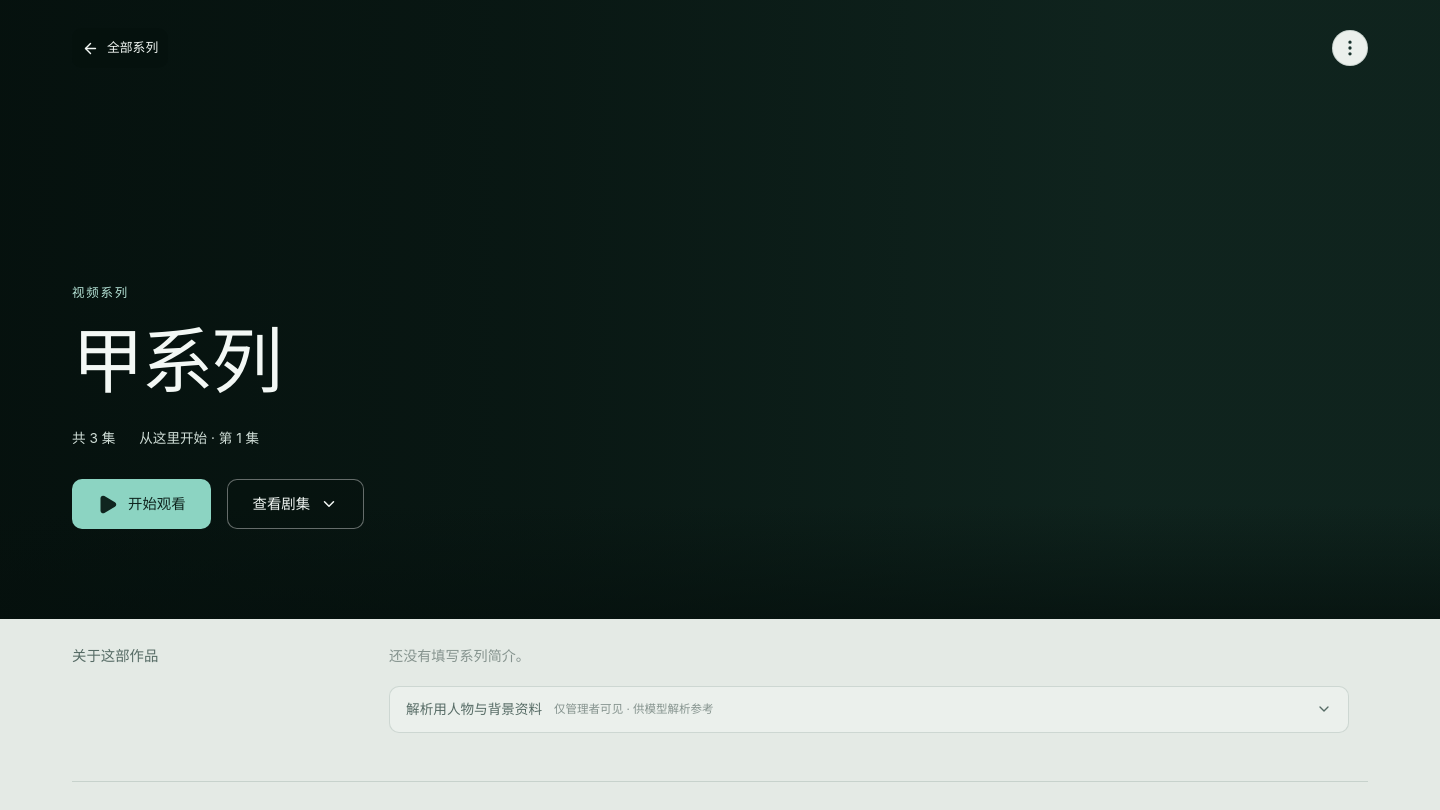
Scenario: SeriesPage › keeps the model-facing background behind a collapsed manager section
Expected: the text "还没有填写系列简介。" is shown, [389, 647, 530, 664]
Expected: the heading "高松灯" is not shown
Click the text "解析用人物与背景资料" at (474, 709), box [406, 699, 542, 720]
(page scrolled)
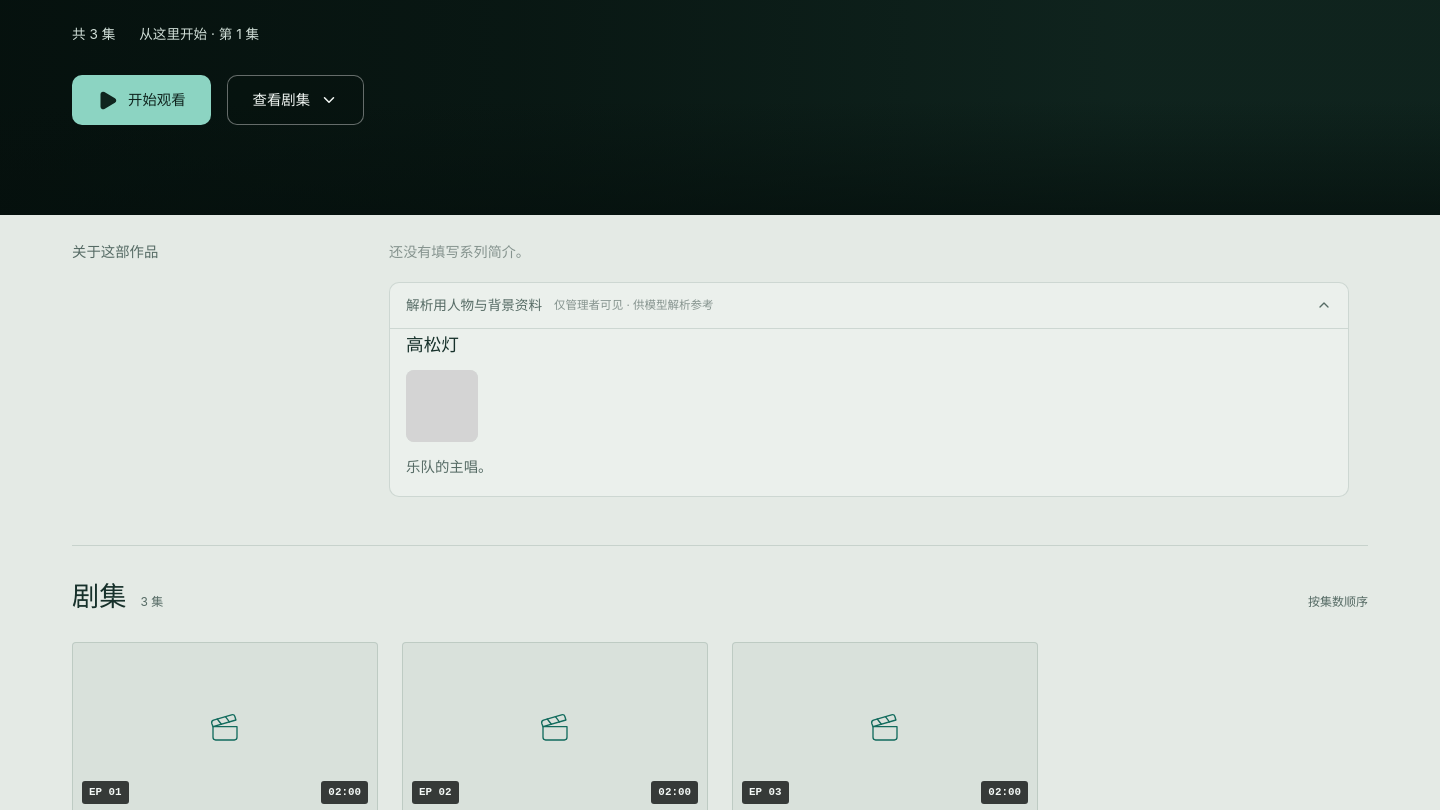
Now the heading "高松灯" is shown, box [406, 334, 459, 355]
